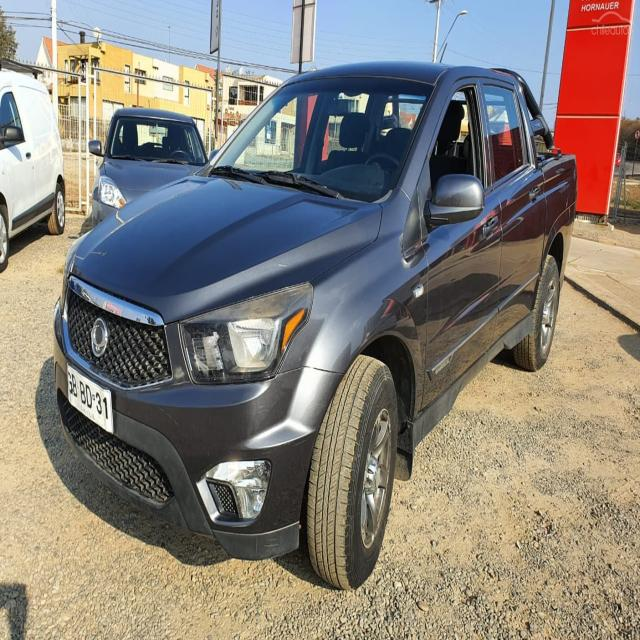patente: (65, 362, 114, 435)
